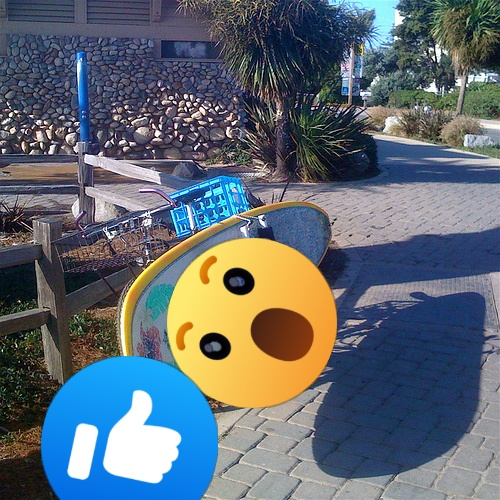like: (41, 356, 218, 500)
wow: (167, 238, 337, 408)
